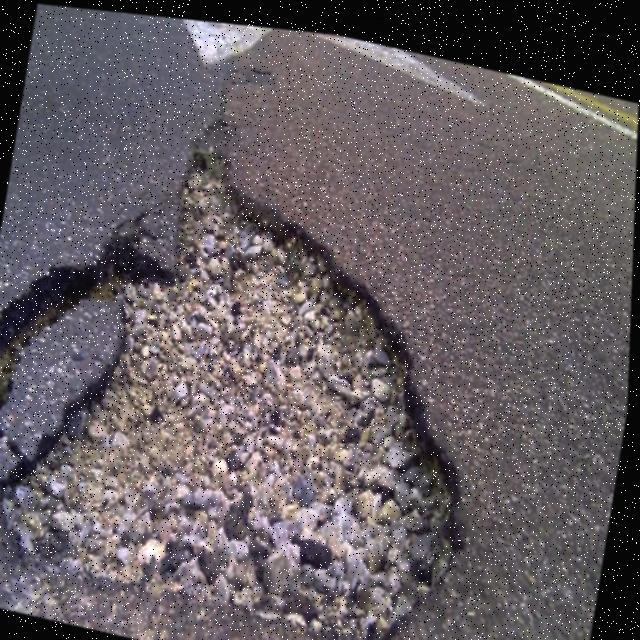pothole: (0, 113, 514, 640)
